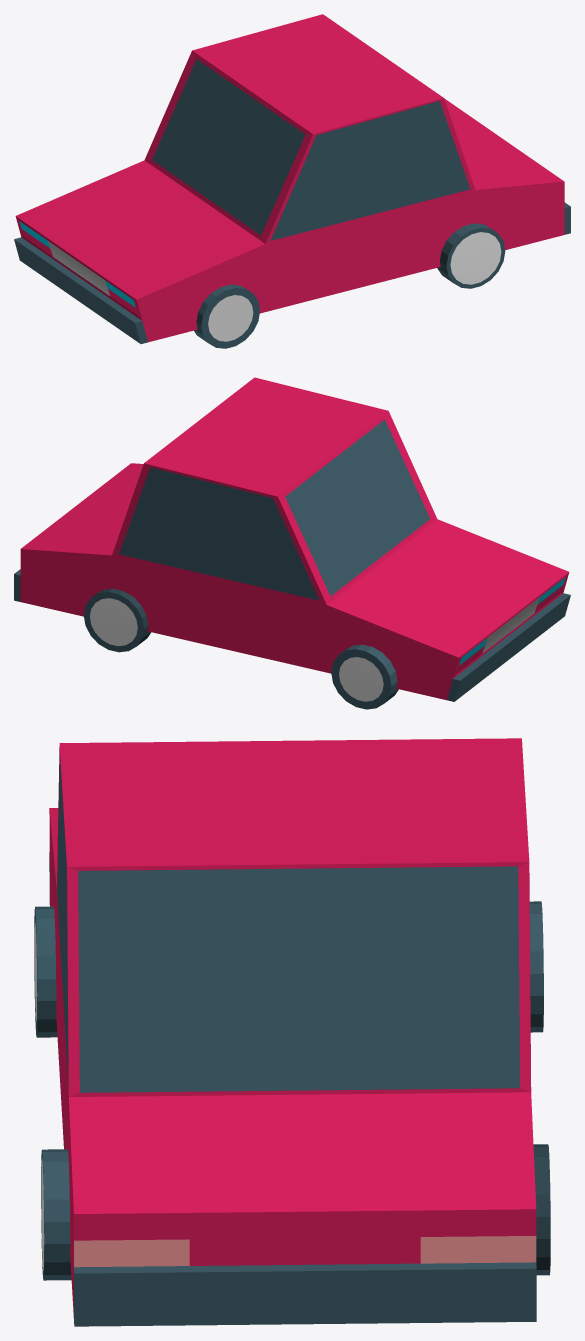
Rendered from car3.obj.
3 views of the same model, one above another, from view 1: azimuth 30°, elevation 25°; view 2: azimuth 150°, elevation 25°; view 3: azimuth 270°, elevation 25° (orthographic). The views are drawn at different scales.
Visible parts, largest first — view 1: ROAD.159; view 2: ROAD.159; view 3: ROAD.159.
Part boxes in pixels (<box>): ROAD.159: <box>14,14,570,348</box>; ROAD.159: <box>14,377,570,709</box>; ROAD.159: <box>34,738,550,1326</box>.
Size of the model in its own units: 23.21 by 9.49 by 11.67.
1 material, 1 textured.
